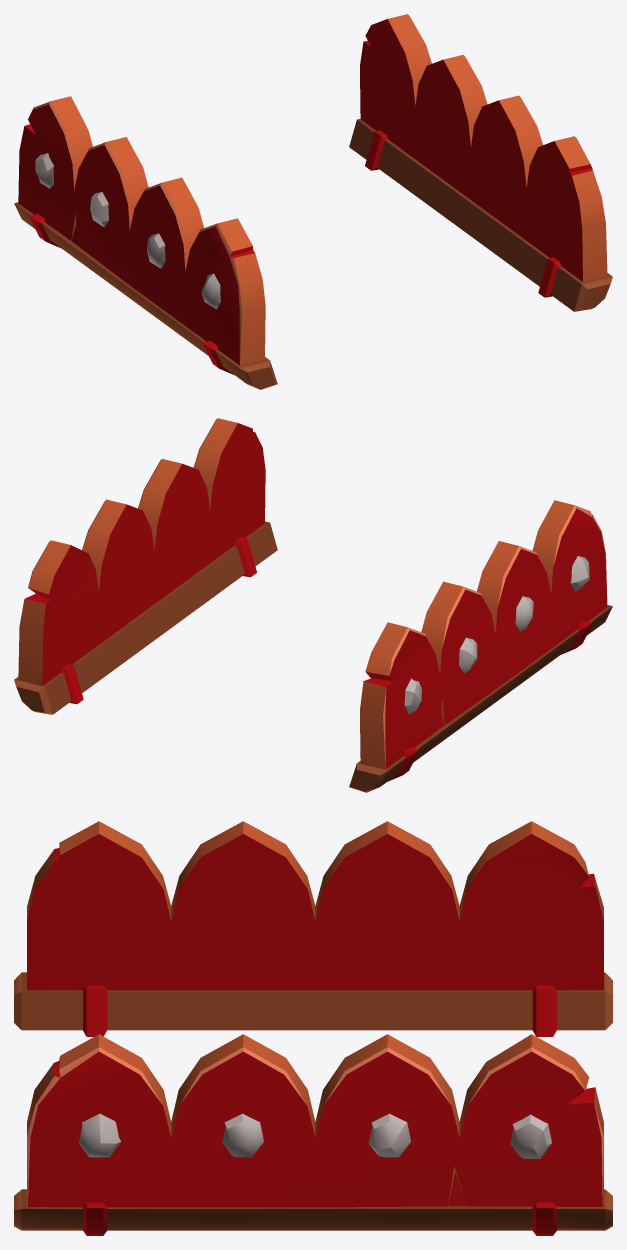
Rendered from Armor_Raft.fbx.
3 views of the same model, one above another, from view 1: azimuth 30°, elevation 25°; view 2: azimuth 150°, elevation 25°; view 3: azimuth 270°, elevation 25° (orthographic). The views are drawn at different scales.
Parts seen in each view (by area): view 1: Armor_Color_11, Armor_Color_10, Armor_Color_09; view 2: Armor_Color_11, Armor_Color_10, Armor_Color_09; view 3: Armor_Color_10, Armor_Color_11, Armor_Color_09.
Part boxes in pixels (box(x1,y1,x2,y2)): Armor_Color_11: box(18, 96, 265, 365); Armor_Color_10: box(360, 14, 607, 281); Armor_Color_09: box(14, 119, 612, 389); Armor_Color_11: box(360, 500, 607, 769); Armor_Color_10: box(18, 418, 265, 685); Armor_Color_09: box(14, 521, 612, 792); Armor_Color_10: box(27, 1034, 603, 1207); Armor_Color_11: box(27, 821, 603, 990); Armor_Color_09: box(14, 972, 612, 1235).
Size of the model in its own units: 15.01 by 5.63 by 15.56.
